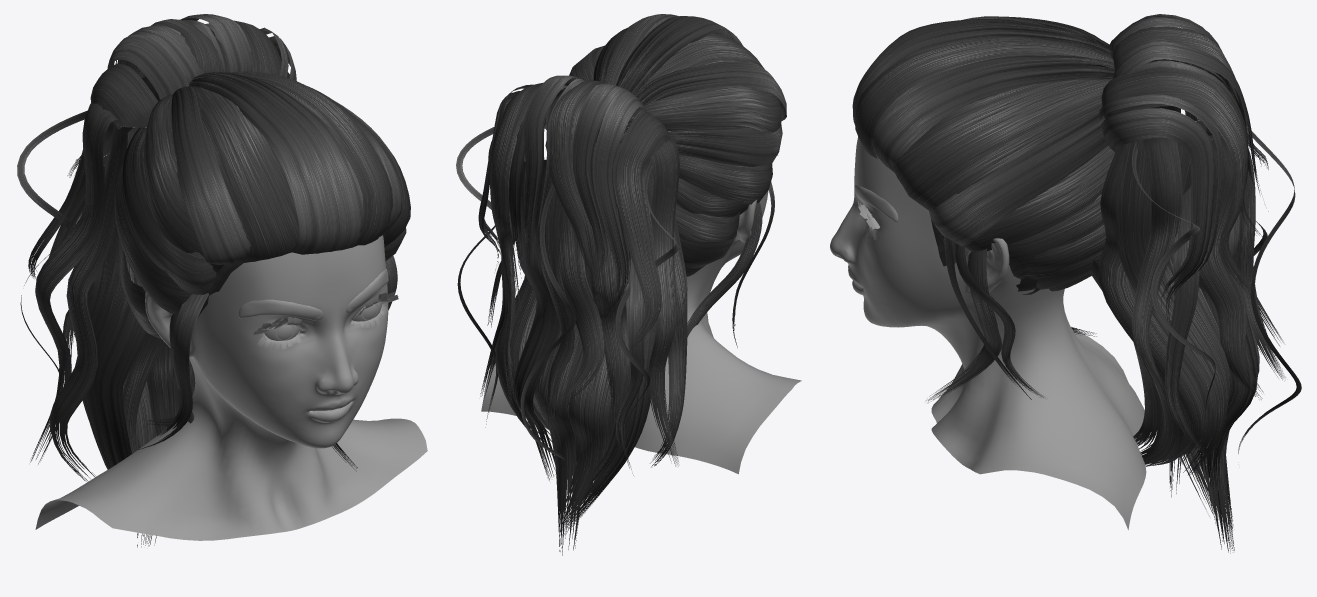
Rendered from Pocolov Hair 07.fbx.
3 renders of one model, left to right at view 1: azimuth 30°, elevation 25°; view 2: azimuth 150°, elevation 25°; view 3: azimuth 270°, elevation 25°, orthographic. The views are drawn at different scales.
Visible parts, largest first — view 1: Hair_07, Head; view 2: Hair_07, Head; view 3: Hair_07, Head.
Part boxes in pixels (box(x1,y1,x2,y2)): Hair_07: box(17, 14, 410, 547); Head: box(35, 235, 427, 540); Hair_07: box(456, 14, 786, 555); Head: box(481, 117, 801, 474); Hair_07: box(852, 14, 1301, 553); Head: box(830, 136, 1146, 529).
Bounding box in the file's own units: 24.41 × 40.12 × 30.85.
4 materials, 3 textured.
